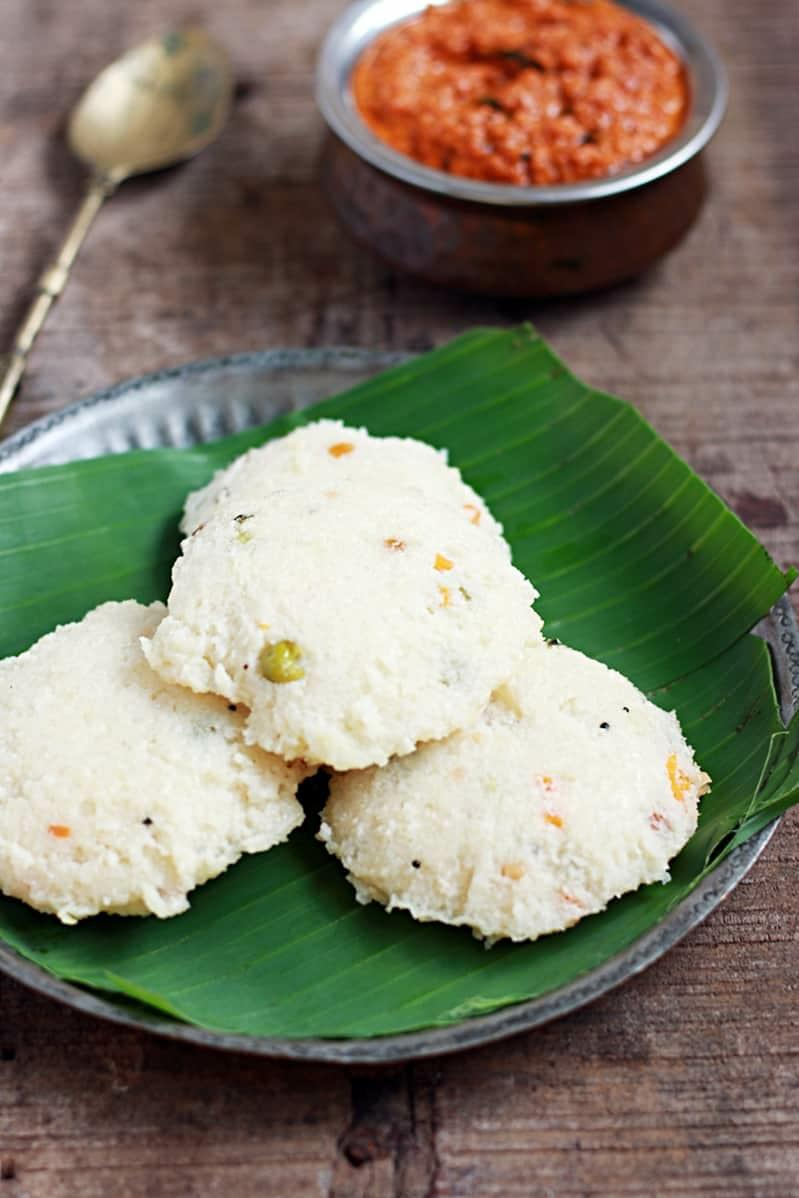Idli: (148, 428, 532, 751), (331, 668, 717, 942), (0, 592, 305, 930)
